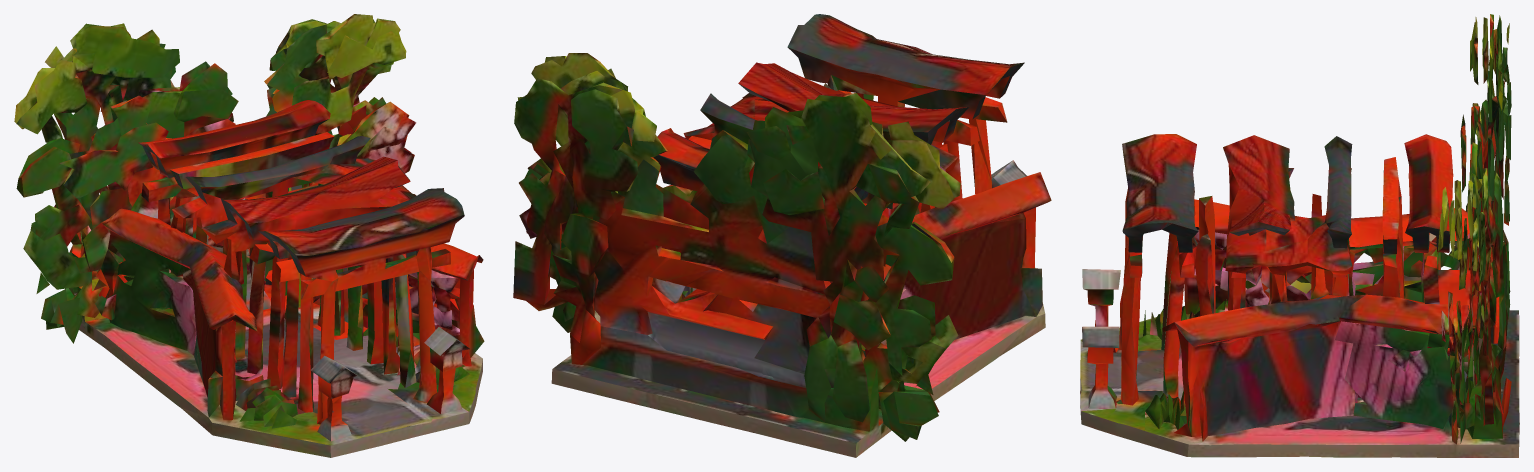
File: sanko-inari.glb
3 views of the same model, side by side, from view 1: azimuth 30°, elevation 25°; view 2: azimuth 150°, elevation 25°; view 3: azimuth 270°, elevation 25° (orthographic). The views are drawn at different scales.
Visible parts, largest first — view 1: logan-textured.obj; view 2: logan-textured.obj; view 3: logan-textured.obj.
Boxes of the visible parts, x1,y1,x2,y2 form: logan-textured.obj: [14, 14, 484, 457]; logan-textured.obj: [513, 14, 1051, 457]; logan-textured.obj: [1080, 14, 1519, 457].
Bounding box in the file's own units: 1 × 0.7455 × 0.9353.
1 material, 1 textured.
